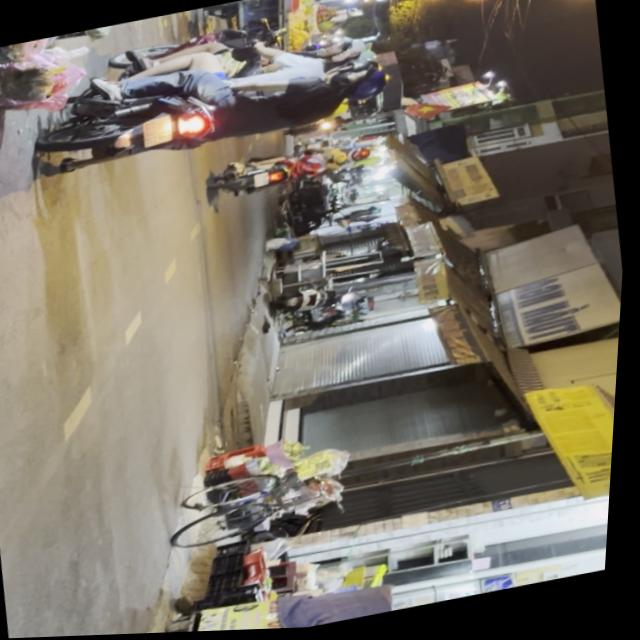helmet: (337, 69, 394, 109), (308, 33, 373, 68), (324, 48, 383, 81)
licenseplate: (26, 0, 406, 188)
nohelmet: (144, 117, 179, 149)
